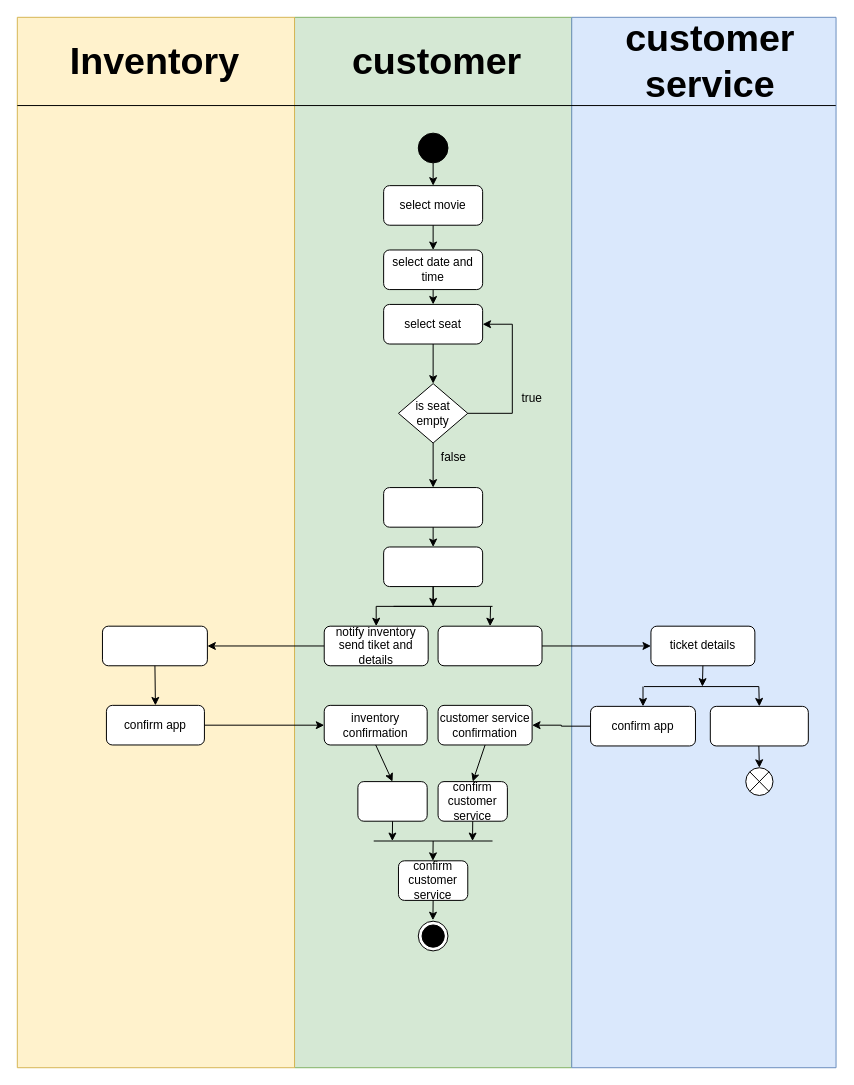
Some shapes in this 854 by 1085 pixel diagram are drawn without their labels. Here are the shapes that lost their labels. From the top down, the box of each, then its label:
(383, 487, 483, 527): cheek out
(383, 546, 483, 587): process order confirmation
(101, 625, 207, 666): update sets details
(437, 625, 542, 666): submit ticket details
(709, 705, 808, 746): add new ticket
(357, 781, 427, 821): confirm invontery
